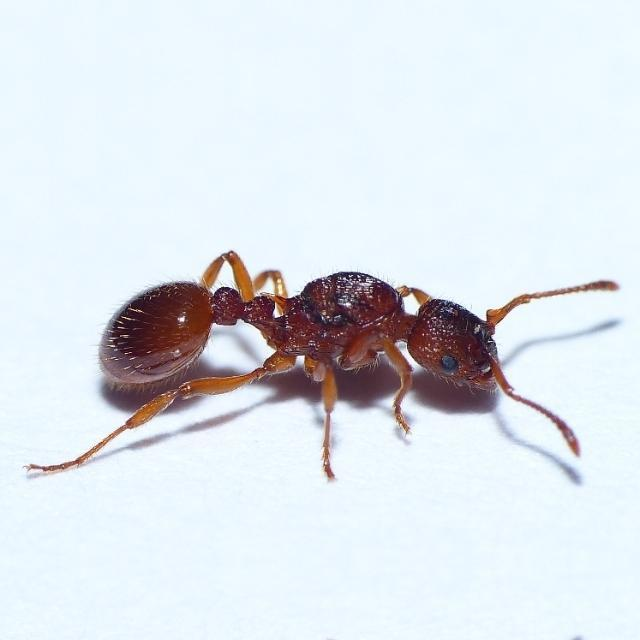Myrmica: (101, 210, 521, 440)
